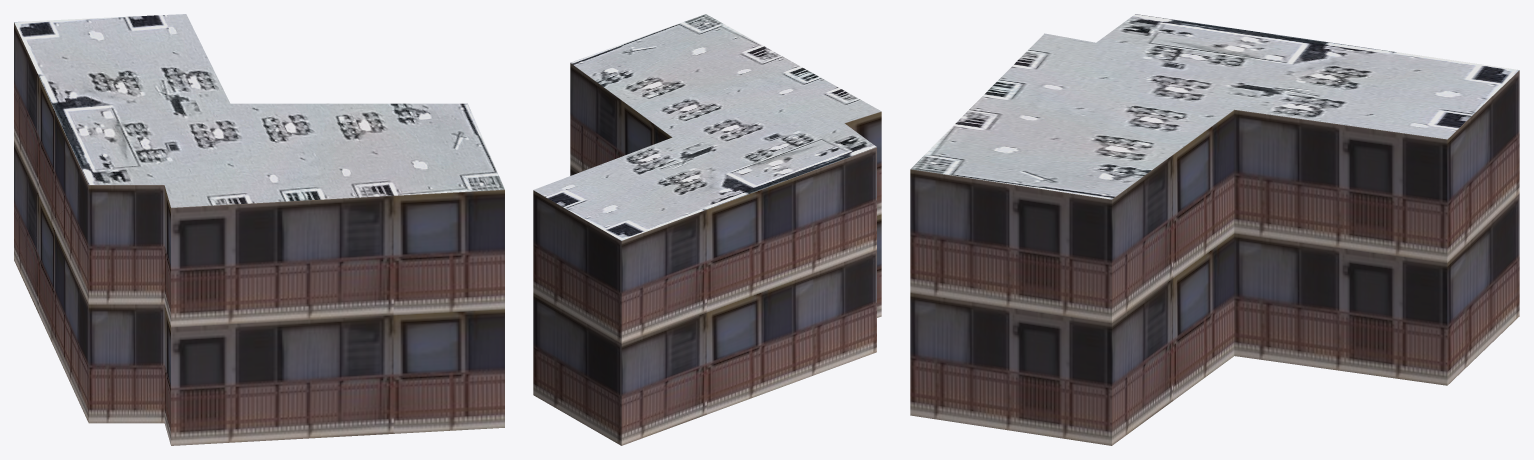
Rendered from ResTex__78.fbx.
The picture shows the model from 3 angles, left to right: view 1: azimuth 30°, elevation 25°; view 2: azimuth 150°, elevation 25°; view 3: azimuth 270°, elevation 25°; orthographic projection. The views are drawn at different scales.
Visible parts, largest first — view 1: CityEngineMaterial_6_m, CityEngineMaterial_4_m; view 2: CityEngineMaterial_6_m, CityEngineMaterial_4_m; view 3: CityEngineMaterial_6_m, CityEngineMaterial_4_m.
Boxes of the visible parts, x1=… form: CityEngineMaterial_6_m: x1=14, y1=22, x2=504, y2=445; CityEngineMaterial_4_m: x1=14, y1=14, x2=504, y2=207; CityEngineMaterial_6_m: x1=533, y1=63, x2=881, y2=445; CityEngineMaterial_4_m: x1=533, y1=14, x2=881, y2=240; CityEngineMaterial_6_m: x1=910, y1=70, x2=1519, y2=445; CityEngineMaterial_4_m: x1=910, y1=14, x2=1519, y2=199.
Size of the model in its own units: 9.7 by 6 by 13.45.
Materials: 2 (2 with a texture image).
